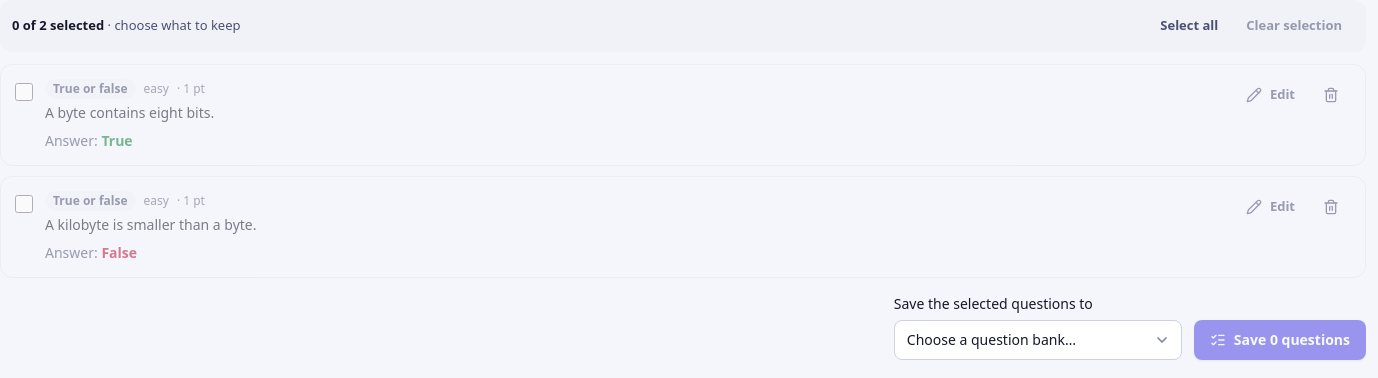
Test: AI question draft selection › selects or clears the whole draft set without losing the questions
Click the button "Select all": coordinates (1189, 26) top-left (1148, 10), bottom-right (1230, 42)
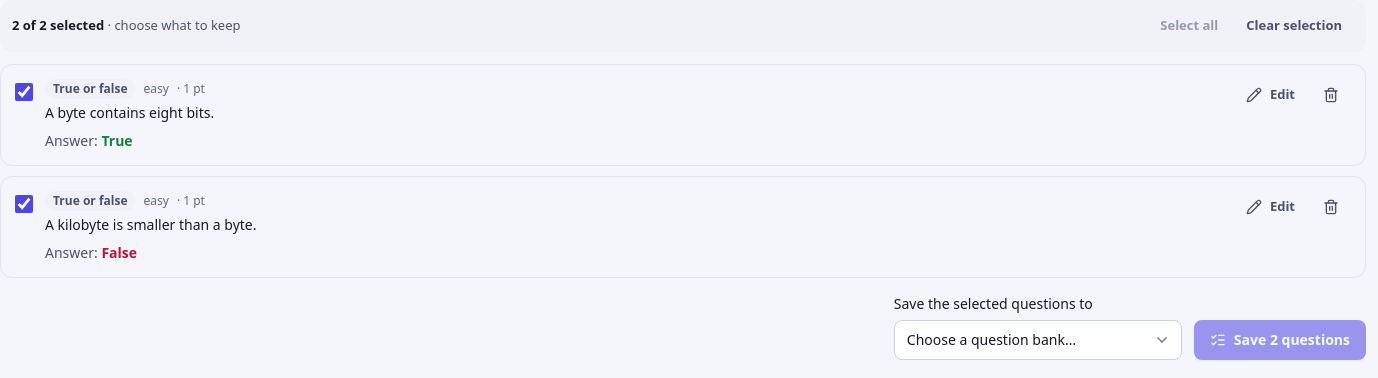
expect the text "2 of 2 selected" is shown: met, box top-left (12, 16), bottom-right (104, 34)
Click the button "Clear selection": coordinates (1294, 26) top-left (1234, 10), bottom-right (1354, 42)
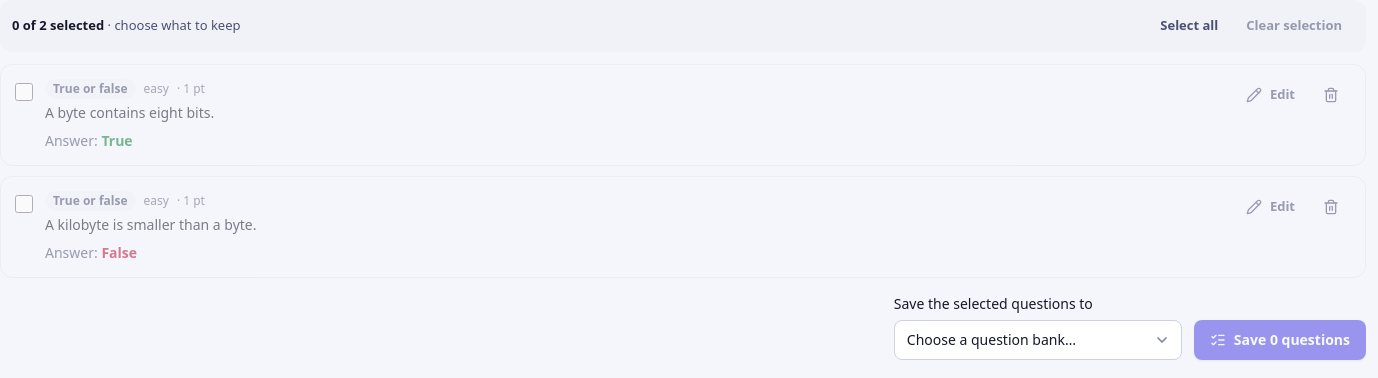
expect the text "A byte contains eight bits." is shown: met, box top-left (45, 103), bottom-right (214, 122)
expect the text "0 of 2 selected" is shown: met, box top-left (12, 16), bottom-right (104, 34)
